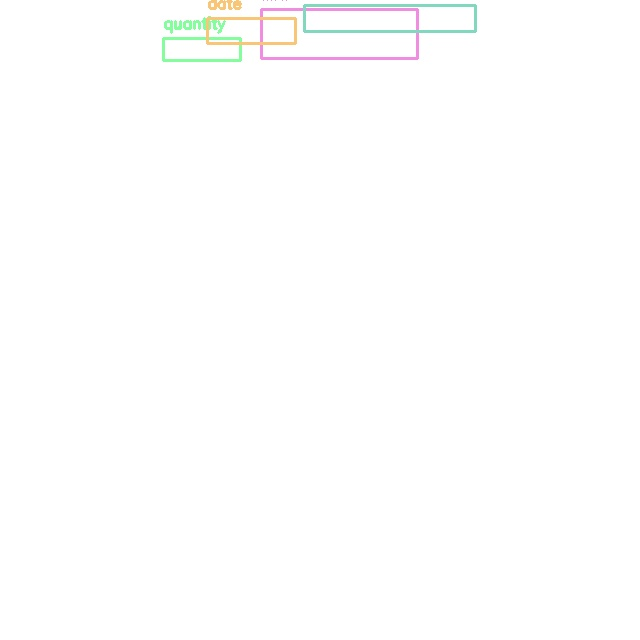MRP: (261, 9, 417, 58)
date: (207, 18, 295, 43)
manufacturer: (304, 5, 475, 31)
quantity: (163, 38, 240, 60)
